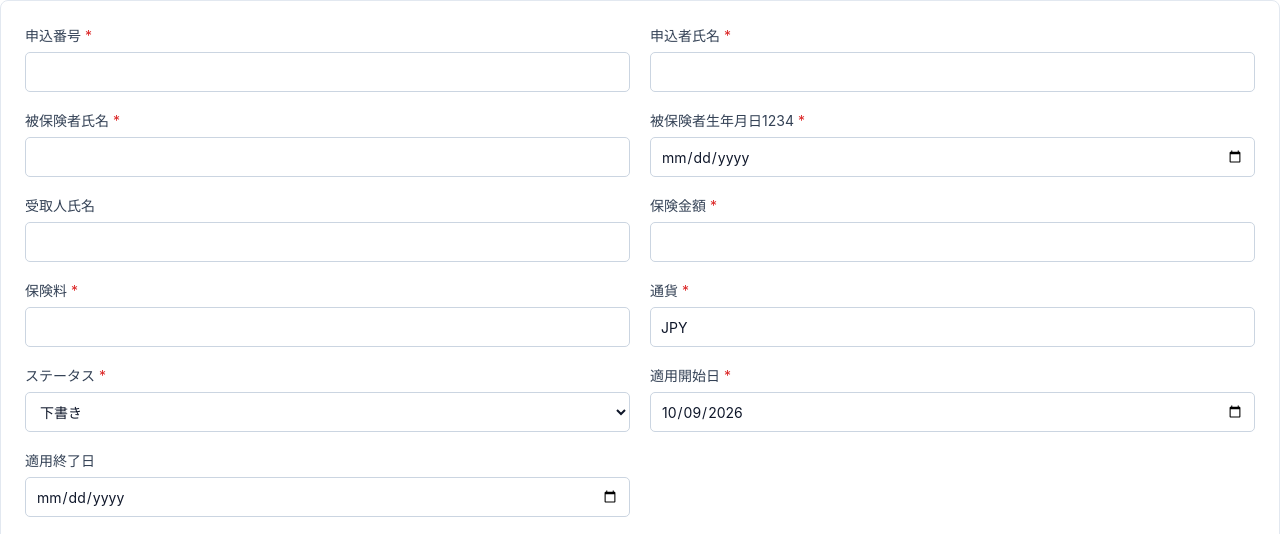
Test case: form components › application form shows Japanese required errors with the shared error component
Clear the field named "application_number" at (328, 72), box [25,52,630,92]
(page scrolled)
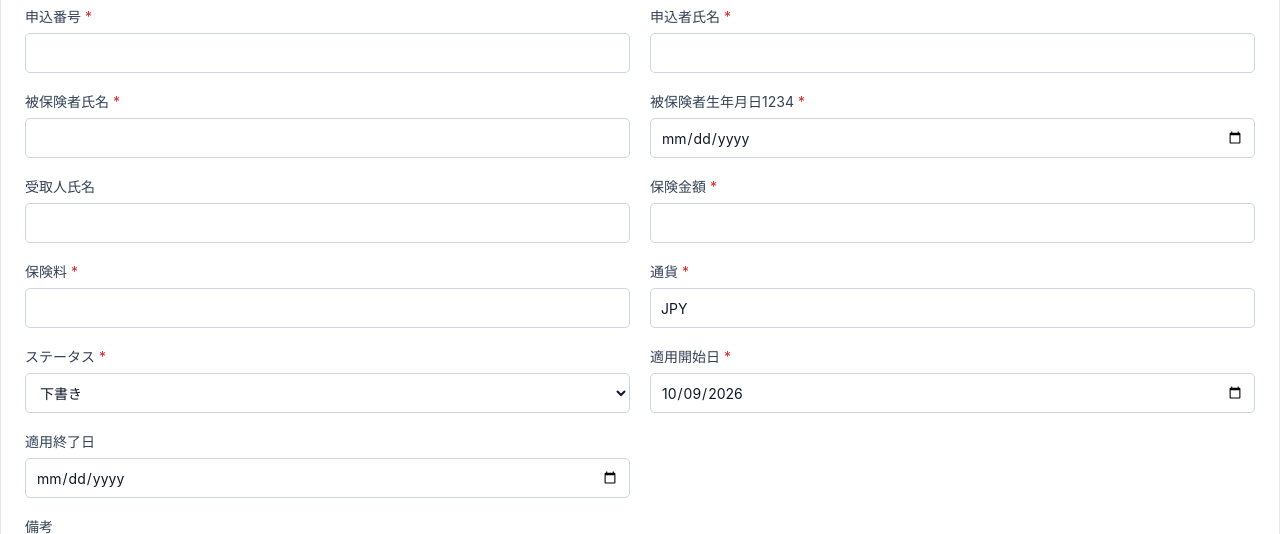
Submit the form
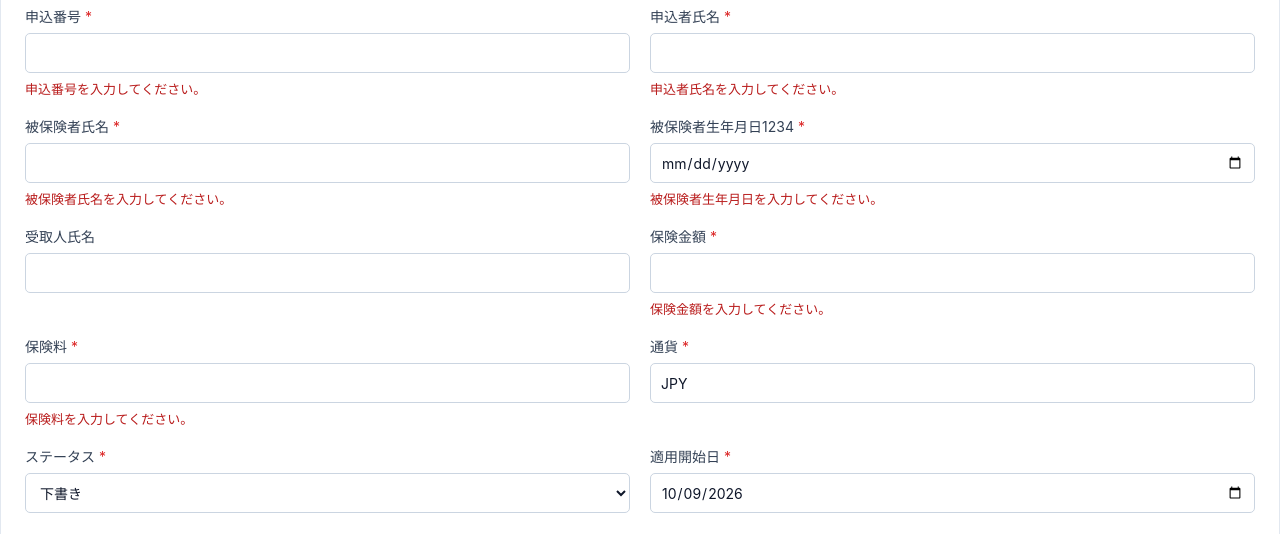
Result: the form shows "申込番号を入力してください。" at [25,81,206,97]
Result: the message with class "field-error" reads "申込番号を入力してください。" at [25,81,206,97]
